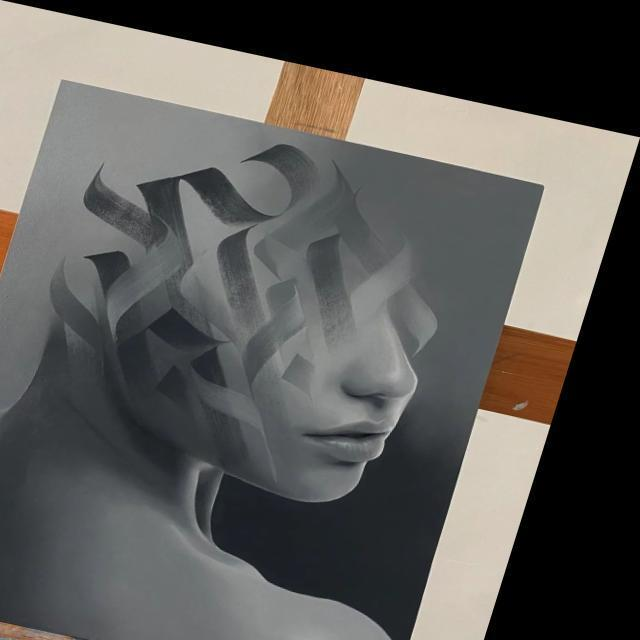-: (0, 76, 555, 640)
